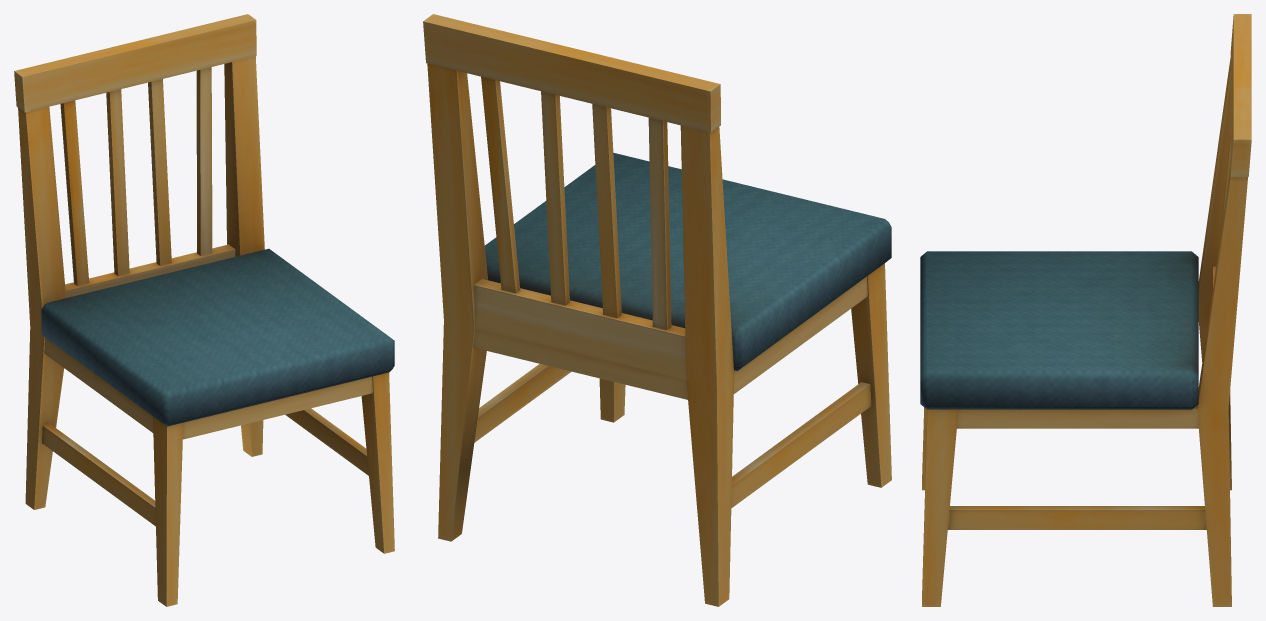
File: sb_obj_ModernCity066_diningchair_a.fbx
3 views of the same model, side by side, from view 1: azimuth 30°, elevation 25°; view 2: azimuth 150°, elevation 25°; view 3: azimuth 270°, elevation 25° (orthographic). The views are drawn at different scales.
Parts seen in each view (by area): view 1: sb_obj_ModernCity066_diningchair_a; view 2: sb_obj_ModernCity066_diningchair_a; view 3: sb_obj_ModernCity066_diningchair_a.
Boxes of the visible parts, x1,y1,x2,y2 form: sb_obj_ModernCity066_diningchair_a: (14,14,394,606); sb_obj_ModernCity066_diningchair_a: (423,14,891,606); sb_obj_ModernCity066_diningchair_a: (920,14,1251,606).
Bounding box in the file's own units: 0.4603 × 0.802 × 0.5138.
1 material, 1 textured.
